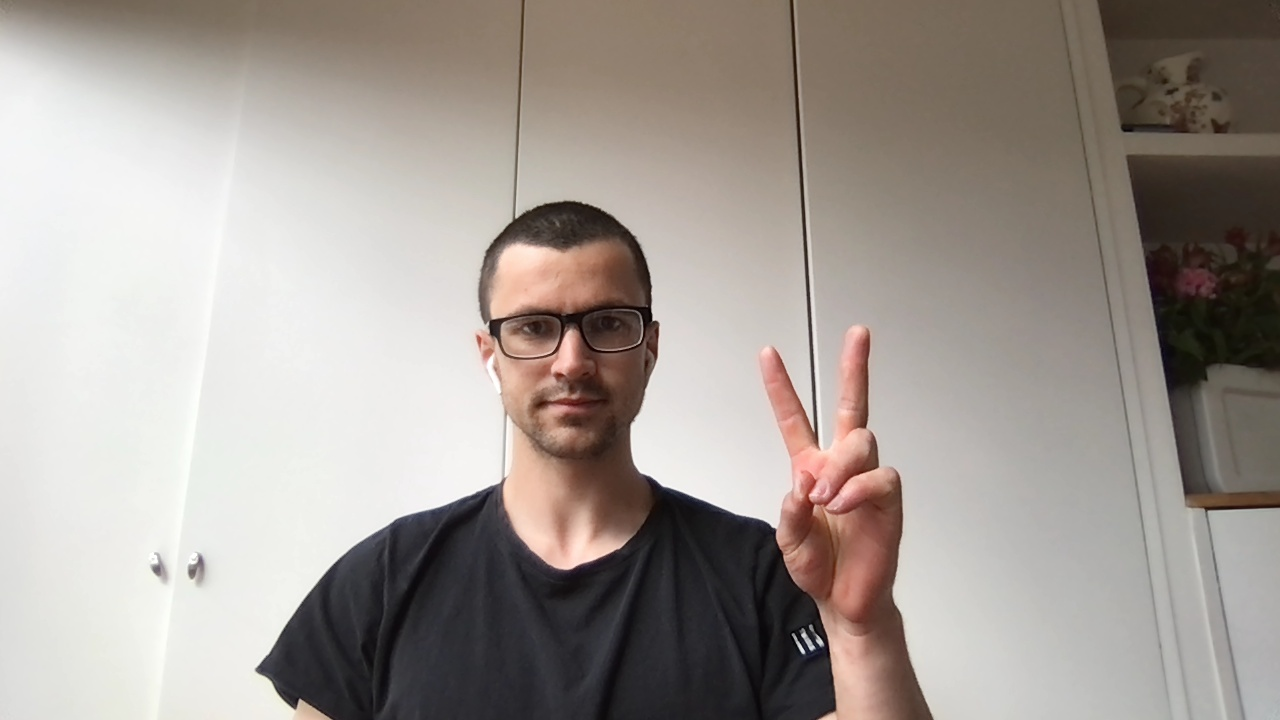peace: (760, 325, 903, 611)
